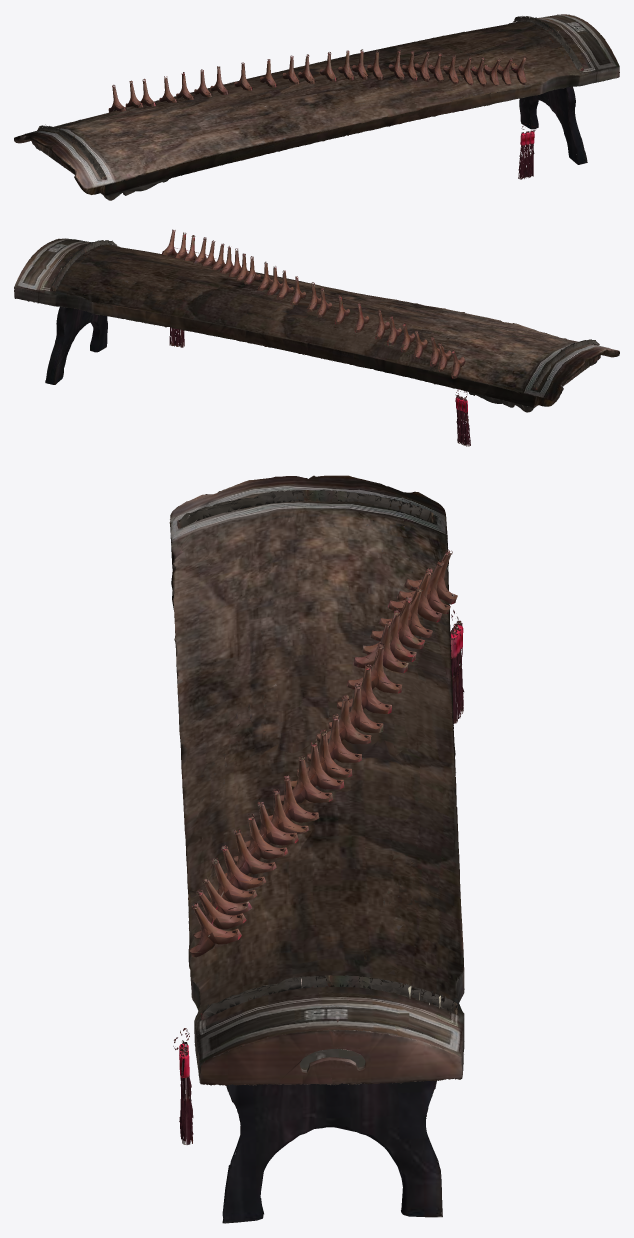
File: ajaeng.glb
3 renders of one model, top to bottom at view 1: azimuth 30°, elevation 25°; view 2: azimuth 150°, elevation 25°; view 3: azimuth 270°, elevation 25°, orthographic. The views are drawn at different scales.
Visible parts, largest first — view 1: Jongmyo Jerye_Royal Ancestral Ritual in the Jongmyo Shrine_A; view 2: Jongmyo Jerye_Royal Ancestral Ritual in the Jongmyo Shrine_A; view 3: Jongmyo Jerye_Royal Ancestral Ritual in the Jongmyo Shrine_A.
Part boxes in pixels (<box>): Jongmyo Jerye_Royal Ancestral Ritual in the Jongmyo Shrine_A: <box>14,14,619,200</box>; Jongmyo Jerye_Royal Ancestral Ritual in the Jongmyo Shrine_A: <box>14,229,619,446</box>; Jongmyo Jerye_Royal Ancestral Ritual in the Jongmyo Shrine_A: <box>169,475,464,1223</box>.
Size of the model in its own units: 1535 by 392 by 362.
2 materials, 2 textured.
